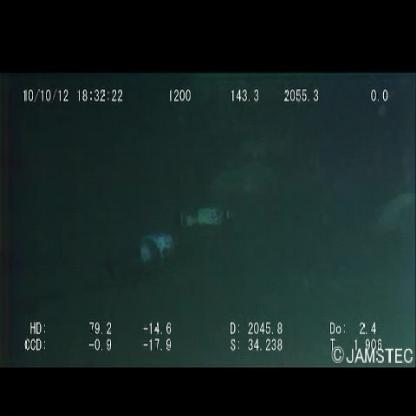Rác: (109, 226, 195, 278), (175, 199, 242, 233)
